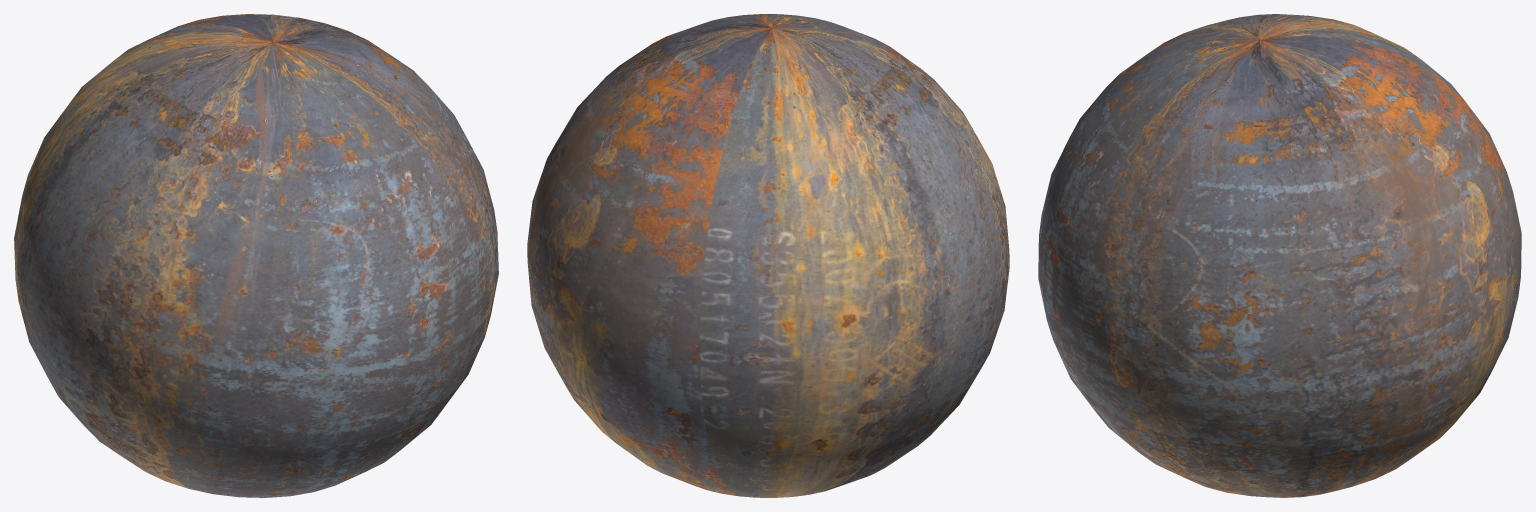
The model's file is ball.fbx.
The picture shows the model from 3 angles, left to right: view 1: azimuth 30°, elevation 25°; view 2: azimuth 150°, elevation 25°; view 3: azimuth 270°, elevation 25°; orthographic projection.
Visible parts, largest first — view 1: 球体; view 2: 球体; view 3: 球体.
Boxes of the visible parts, x1=… form: 球体: x1=14, y1=14, x2=498, y2=497; 球体: x1=527, y1=14, x2=1009, y2=497; 球体: x1=1038, y1=14, x2=1521, y2=497.
Bounding box in the file's own units: 199 × 199 × 200.
1 material, 1 textured.
